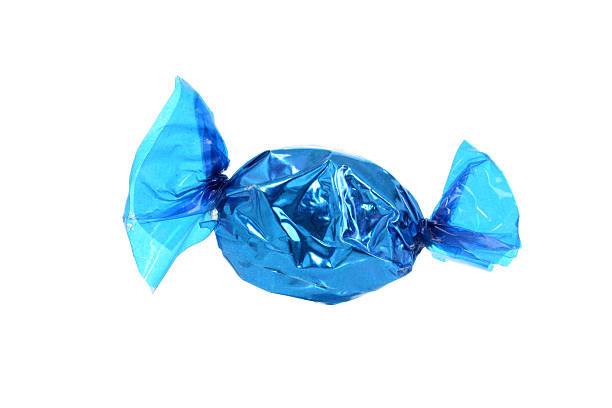Nonrec_Plastic: (118, 57, 522, 317)
